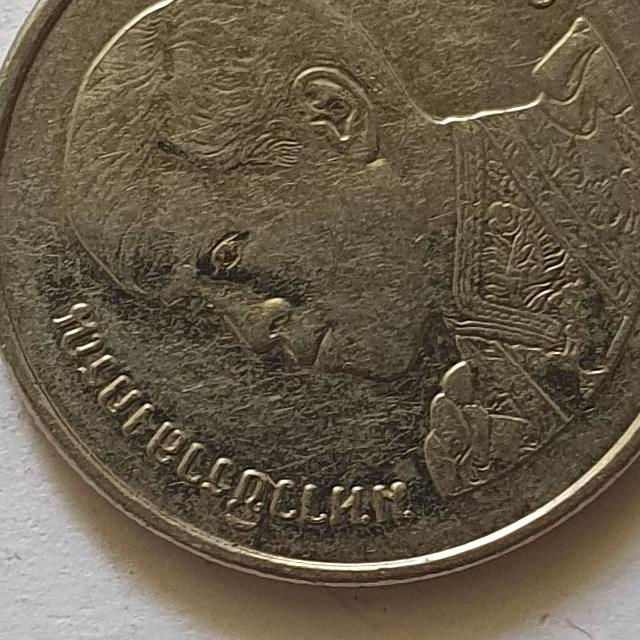2 Bath: (1, 1, 640, 640)
